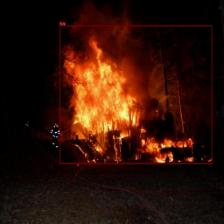fire: (60, 25, 212, 164)
